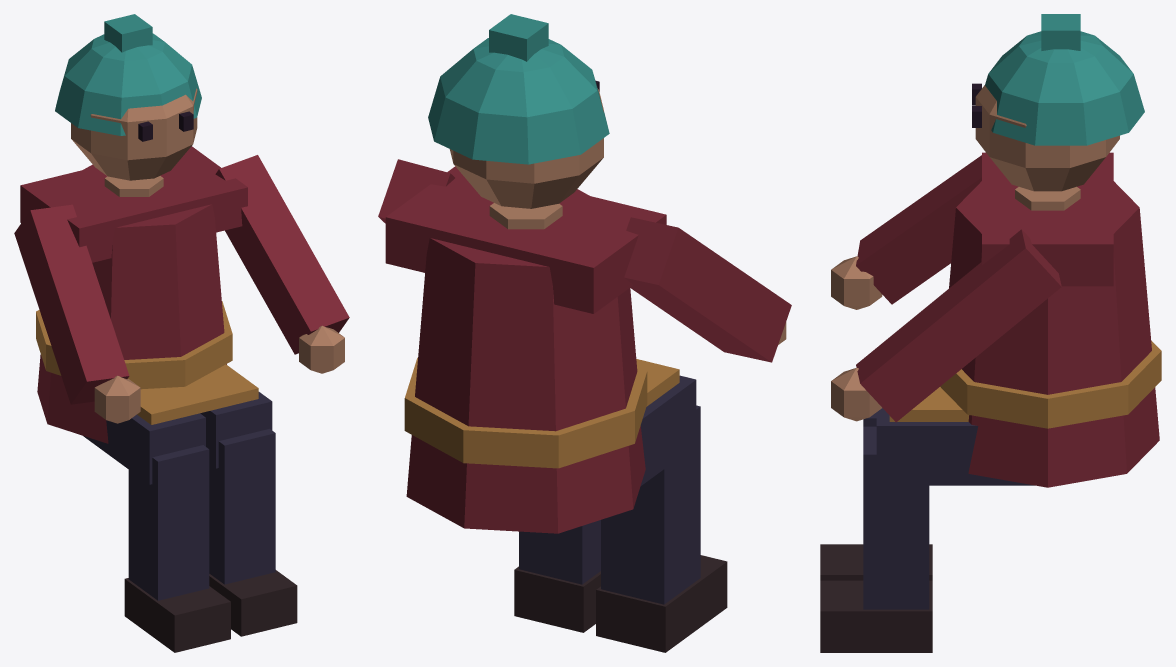
Rendered from person_hessa_seated.gltf.
The picture shows the model from 3 angles, left to right: view 1: azimuth 30°, elevation 25°; view 2: azimuth 150°, elevation 25°; view 3: azimuth 270°, elevation 25°; orthographic projection. The views are drawn at different scales.
Parts seen in each view (by area): view 1: body, face; view 2: body, face; view 3: body, face.
Boxes of the visible parts, left/top/right/bottom form: body: left=14, top=146, right=349, bottom=652; face: left=55, top=14, right=201, bottom=180; body: left=378, top=159, right=791, bottom=652; face: left=428, top=14, right=609, bottom=208; body: left=820, top=152, right=1161, bottom=652; face: left=972, top=14, right=1144, bottom=191.
Bounding box in the file's own units: 1.03 × 2 × 1.03.
